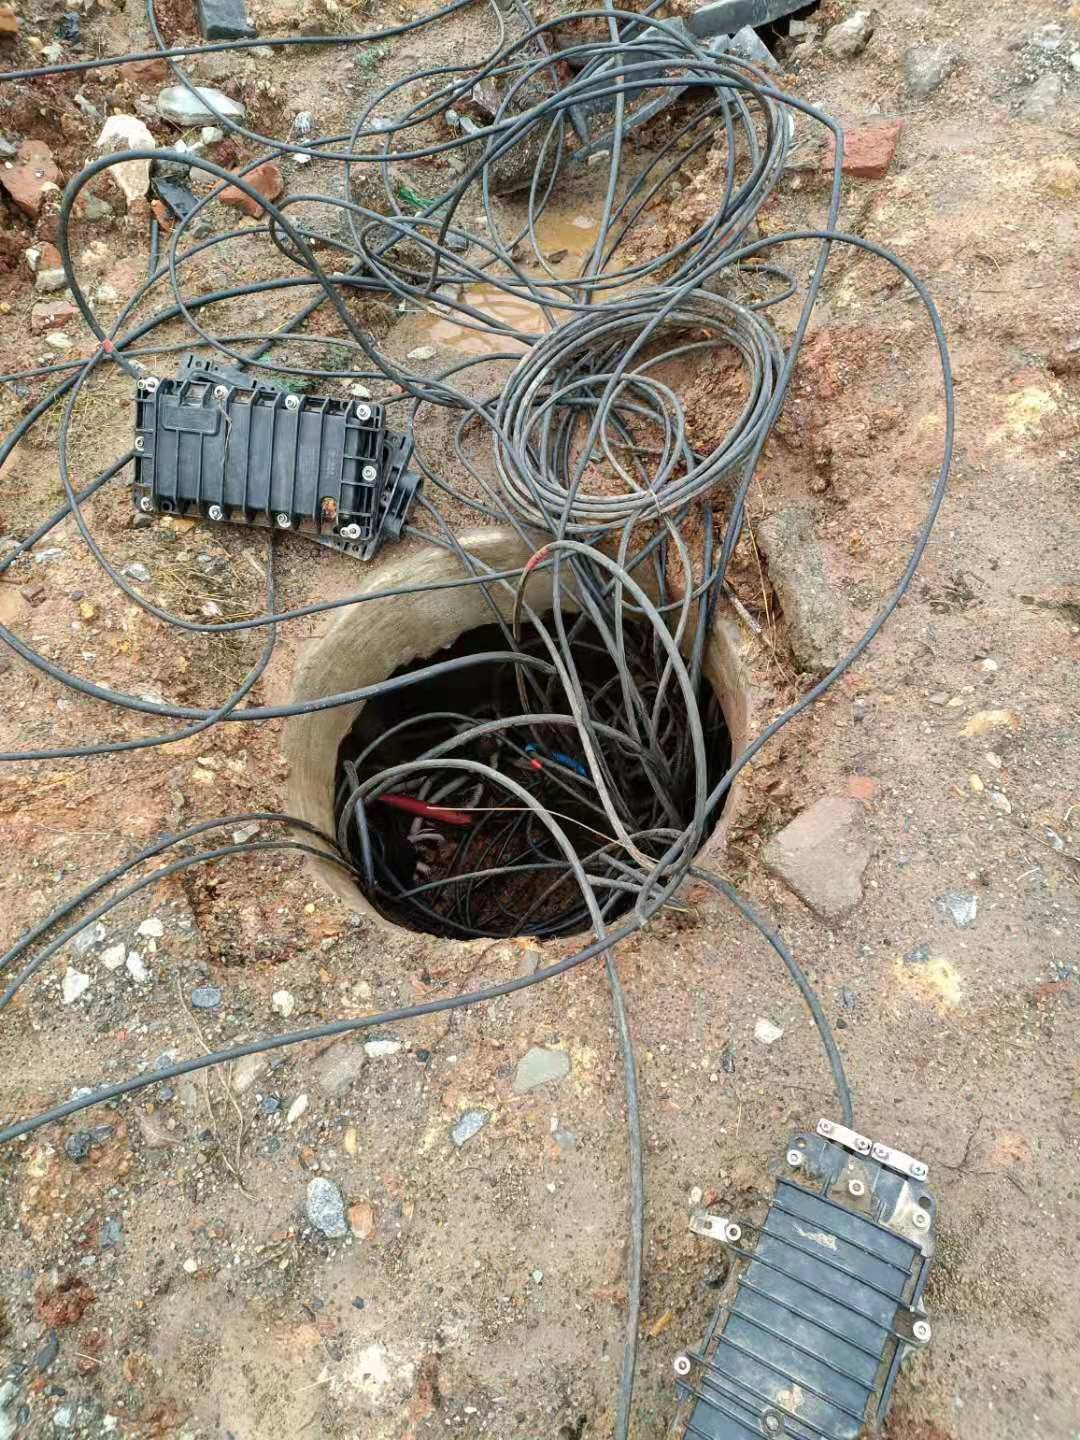lose: (285, 544, 762, 941)
